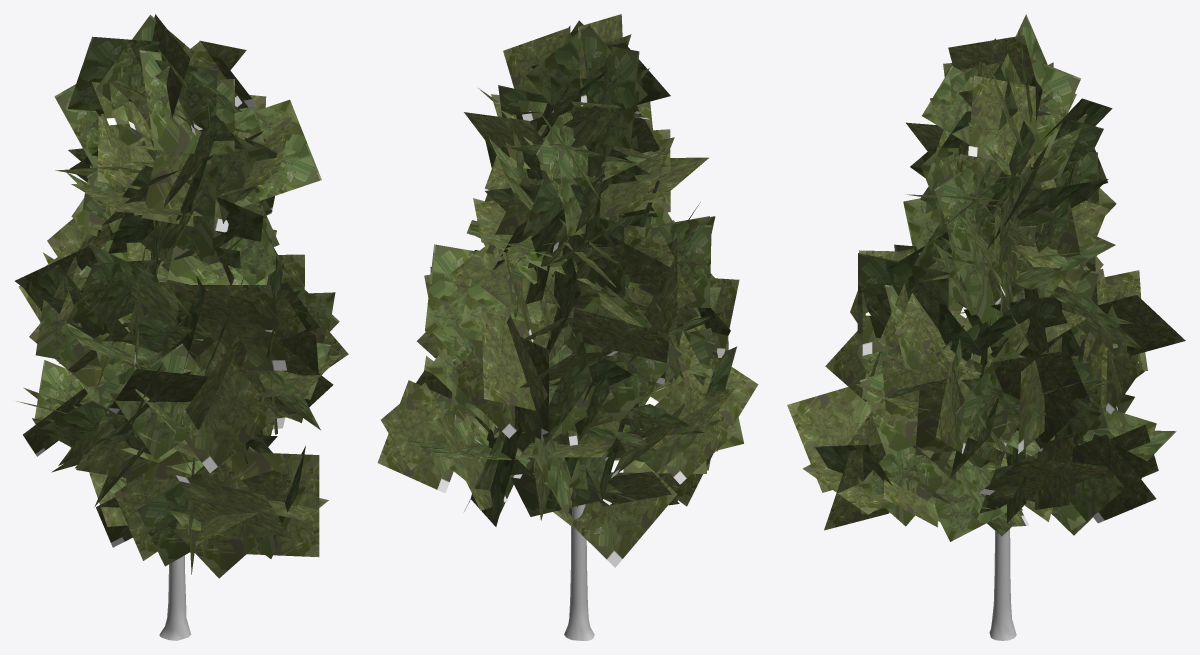
File: Norway_Spruce_Model_0.obj
3 renders of one model, left to right at view 1: azimuth 30°, elevation 25°; view 2: azimuth 150°, elevation 25°; view 3: azimuth 270°, elevation 25°, orthographic. The views are drawn at different scales.
Parts seen in each view (by area): view 1: Foliage__leafcard, Bark; view 2: Foliage__leafcard, Bark; view 3: Foliage__leafcard, Bark.
Part boxes in pixels (bbox=[...]): Foliage__leafcard: bbox=[15, 14, 348, 578]; Bark: bbox=[159, 555, 191, 640]; Foliage__leafcard: bbox=[377, 14, 758, 567]; Bark: bbox=[564, 504, 594, 640]; Foliage__leafcard: bbox=[787, 14, 1185, 541]; Bark: bbox=[989, 529, 1016, 640].
Size of the model in its own units: 8.25 by 16 by 9.67.
